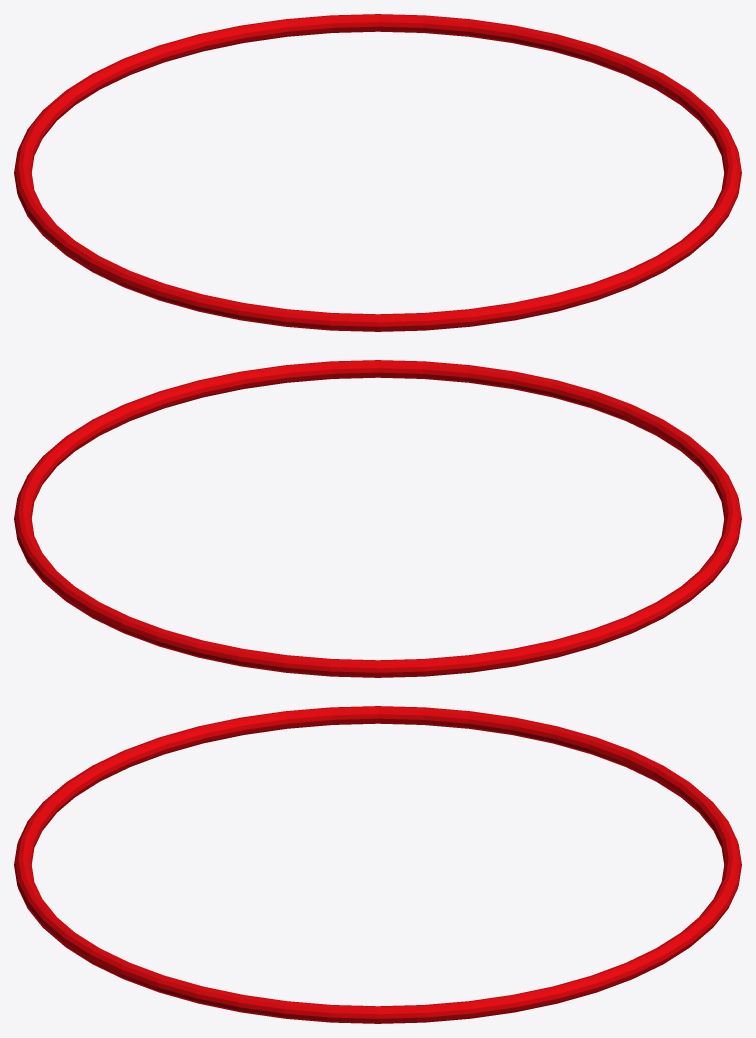
Rendered from ZoneDamage.fbx.
3 views of the same model, one above another, from view 1: azimuth 30°, elevation 25°; view 2: azimuth 150°, elevation 25°; view 3: azimuth 270°, elevation 25° (orthographic).
Parts seen in each view (by area): view 1: Torus.001; view 2: Torus.001; view 3: Torus.001.
Part boxes in pixels (x1=…): Torus.001: x1=14, y1=14, x2=741, y2=331; Torus.001: x1=14, y1=360, x2=741, y2=677; Torus.001: x1=14, y1=706, x2=741, y2=1023.
Bounding box in the file's own units: 410 × 10 × 410.
